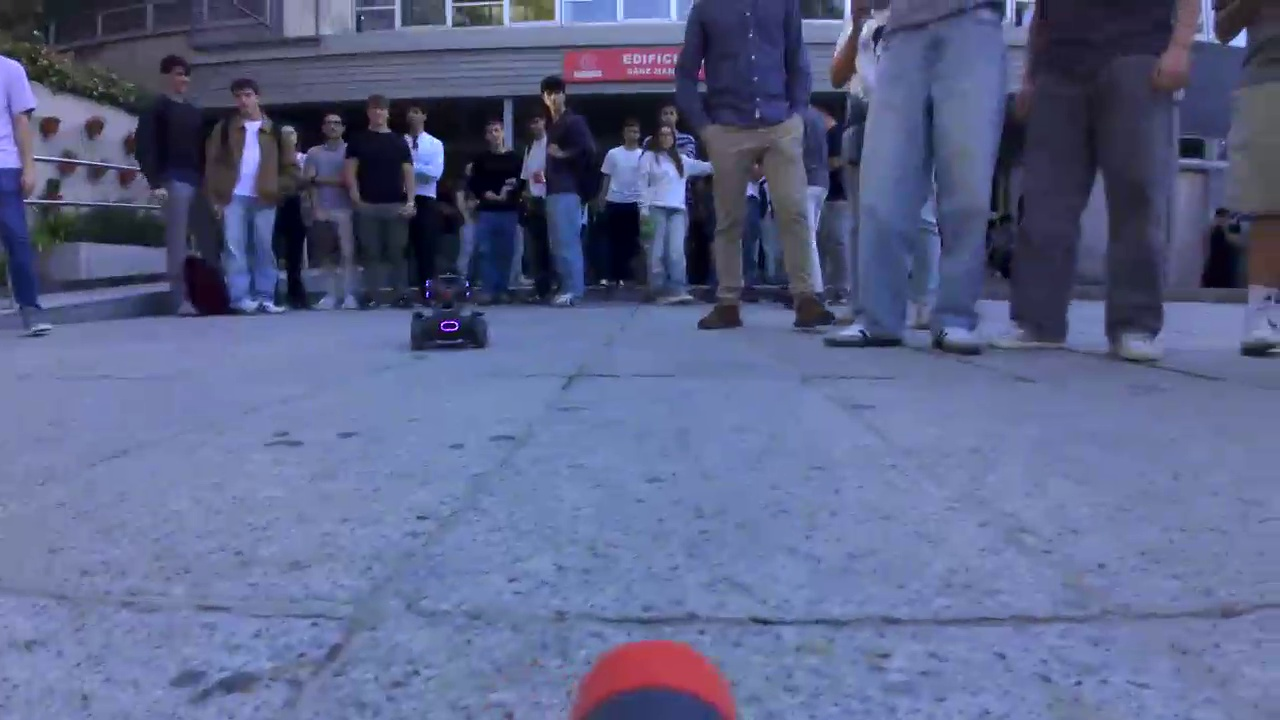robot: (403, 276, 494, 350)
